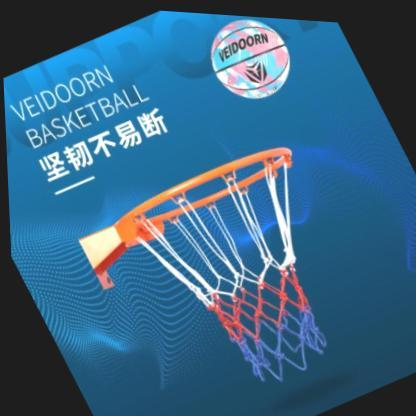basketball: (197, 10, 303, 110)
rim: (104, 124, 386, 416)
